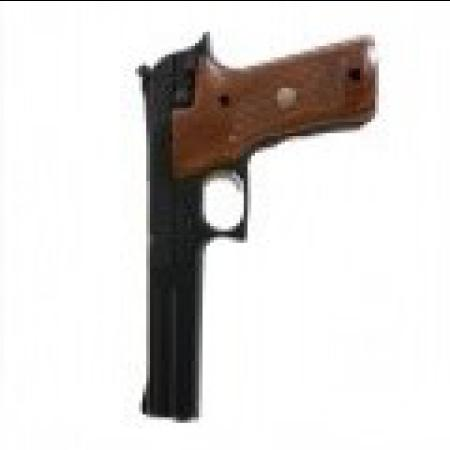Pistol: (135, 34, 383, 428)
